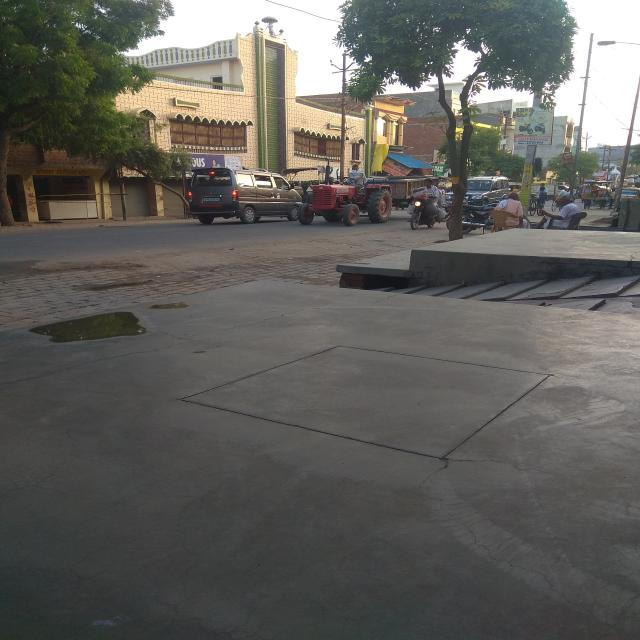Car: (177, 160, 282, 228)
Tractor: (290, 170, 392, 227)
